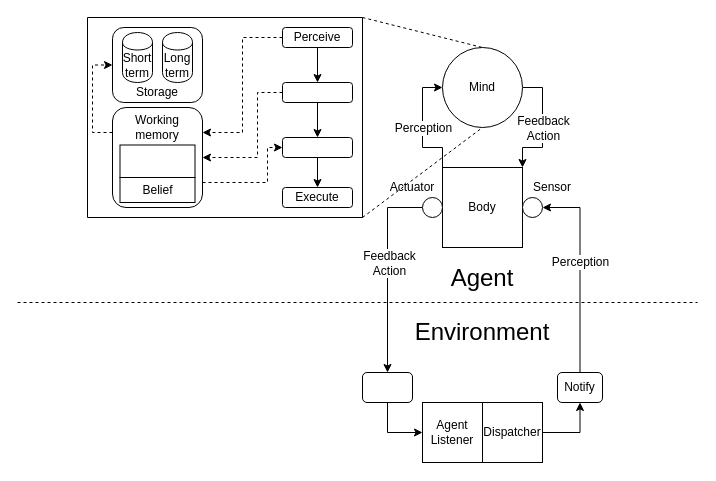
Image size: 716x481. Some labels were removed from this diagram. Each missing label, with the box of its shape:
Attempt: (362, 372, 412, 402)
Decide: (282, 136, 352, 158)
Goal: (119, 144, 195, 178)
Revise: (282, 82, 352, 102)
